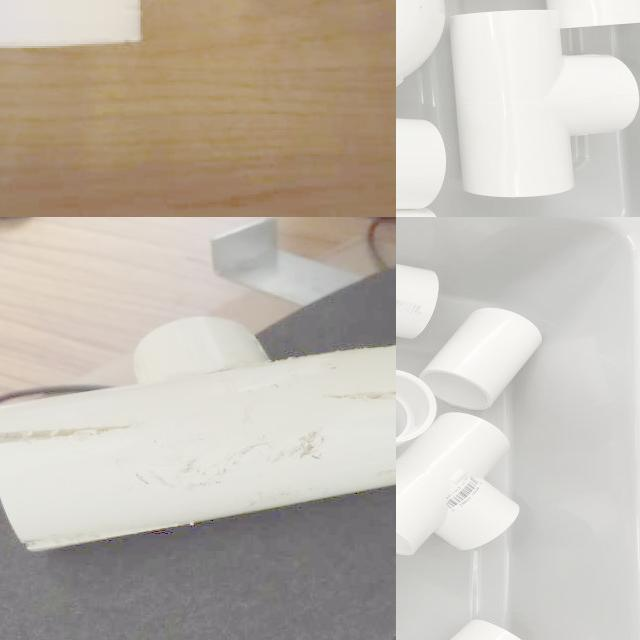Defective: (239, 394, 356, 445), (0, 423, 149, 445), (21, 531, 161, 553), (319, 392, 396, 429), (235, 368, 264, 372)
T Joint: (0, 319, 396, 554), (449, 6, 640, 201), (396, 412, 519, 557)
